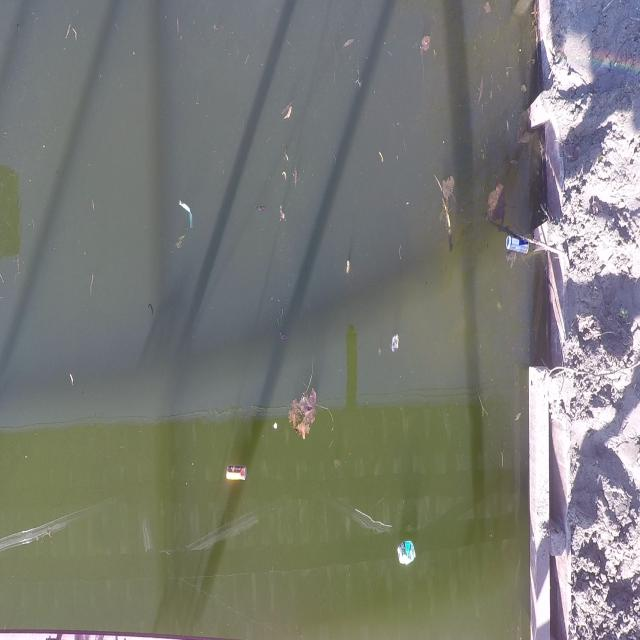Non plastique: (398, 539, 416, 564), (506, 236, 528, 254), (226, 465, 247, 480)
